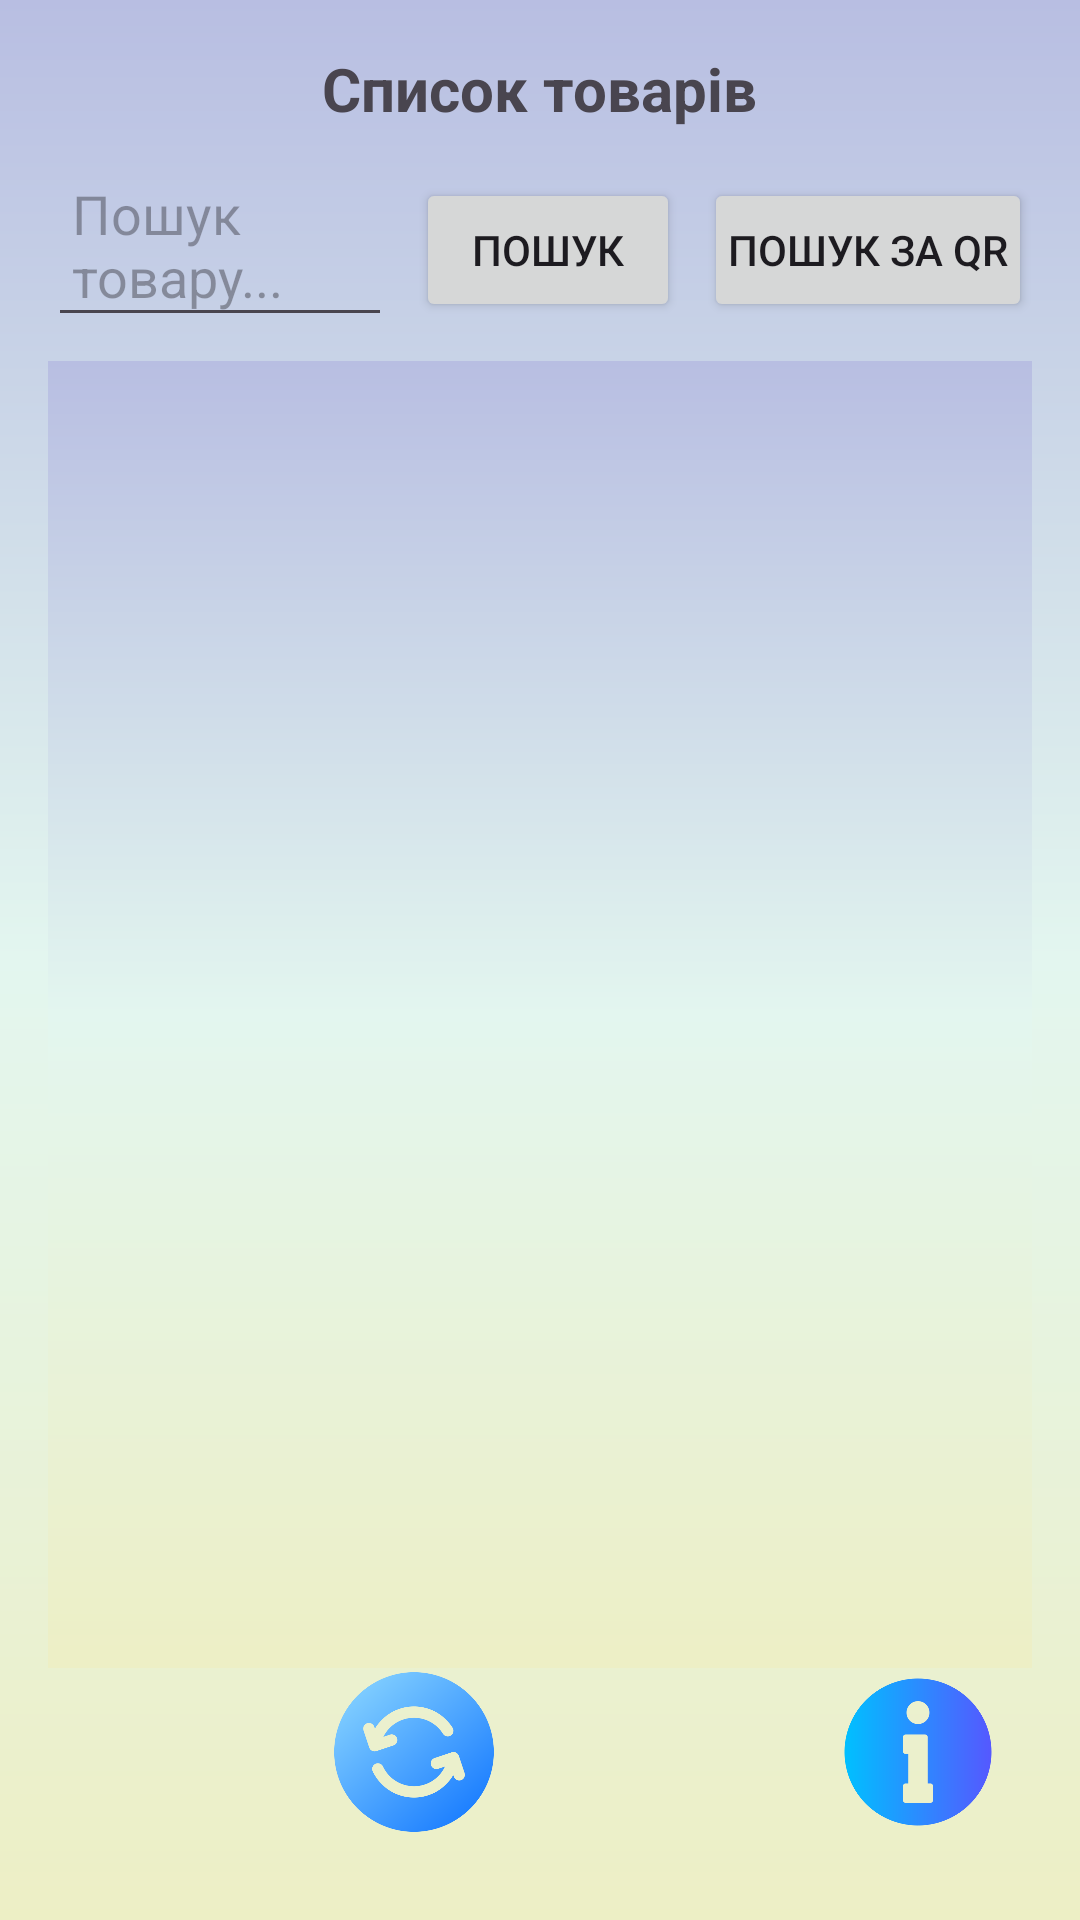

Where icons sit on this 1080w x 1920h app screen, as (x1, y1, x2, y2):
Оновити: (334, 1672, 494, 1832)
